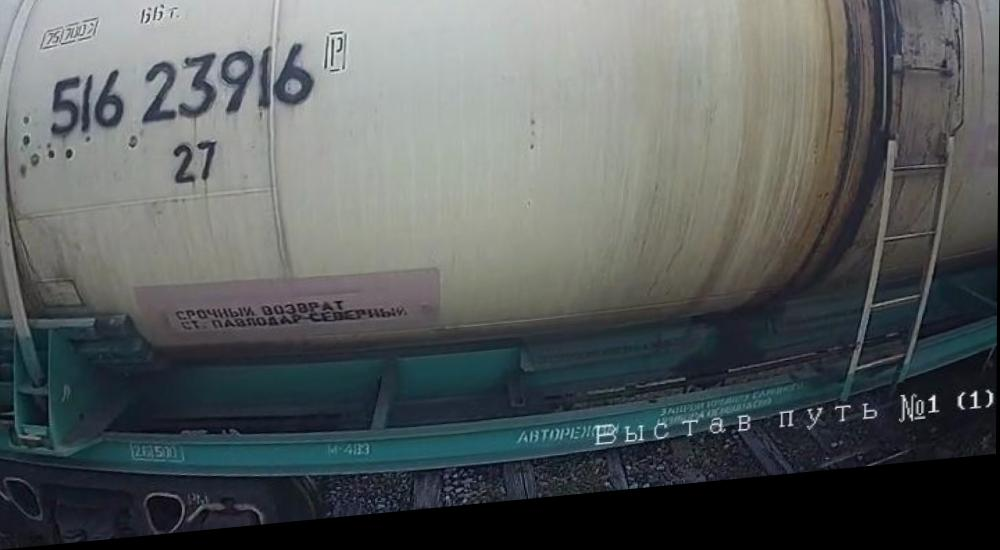Wagon-number: (44, 40, 321, 142)
